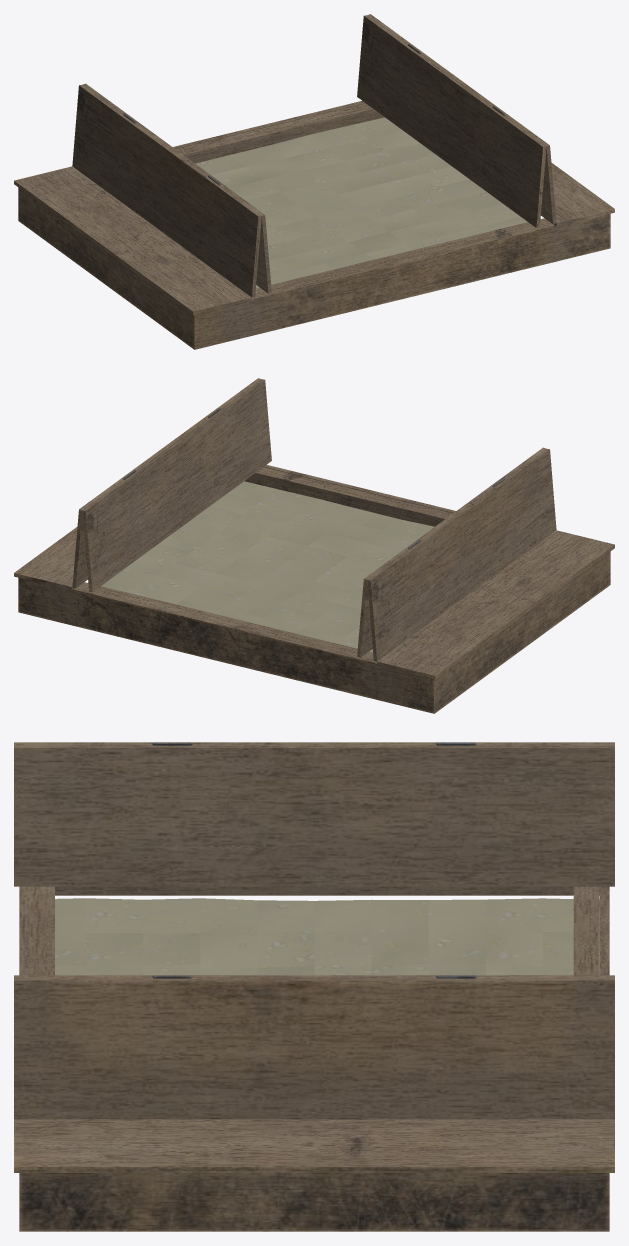
File: sand_box.glb
3 renders of one model, top to bottom at view 1: azimuth 30°, elevation 25°; view 2: azimuth 150°, elevation 25°; view 3: azimuth 270°, elevation 25°, orthographic. The views are drawn at different scales.
Parts seen in each view (by area): view 1: Sandbox_LP; view 2: Sandbox_LP; view 3: Sandbox_LP.
Boxes of the visible parts, left/top/right/bottom form: Sandbox_LP: left=14, top=14, right=614, bottom=349; Sandbox_LP: left=14, top=378, right=614, bottom=713; Sandbox_LP: left=14, top=742, right=614, bottom=1231.
Size of the model in its own units: 4.65 by 1.28 by 3.43.
1 material, 1 textured.
